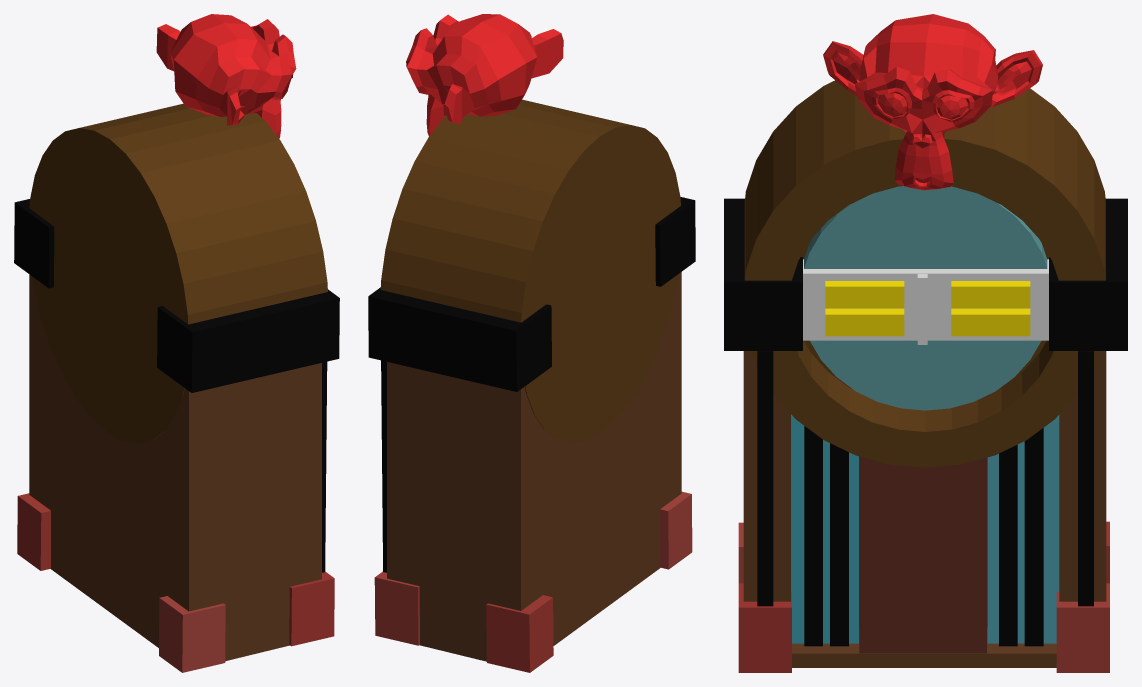
File: Monkey_JukeBox.fbx
3 views of the same model, side by side, from view 1: azimuth 30°, elevation 25°; view 2: azimuth 150°, elevation 25°; view 3: azimuth 270°, elevation 25° (orthographic). The views are drawn at different scales.
Parts seen in each view (by area): view 1: Cylinder.002, Cube.017, Cube, Suzanne, Cube.038, Cube.026, Cube.001, Cube.037, Cube.006; view 2: Cylinder.002, Cube.017, Cube.001, Suzanne, Cube.037, Cube.027, Cube, Cube.038, Cube.007; view 3: Cylinder.002, Cylinder, Cube.030, Cube.017, Suzanne, Cube.008, Cube.001, Cube.014, Cube, Cube.013, Cube.006, Cube.004 (+10 smaller).
Boxes of the visible parts, x1,y1,x2,y2 form: Cylinder.002: [29, 103, 327, 443]; Cube.017: [29, 274, 321, 661]; Cube: [157, 289, 339, 392]; Suzanne: [156, 14, 296, 138]; Cube.038: [159, 596, 225, 672]; Cube.026: [289, 571, 334, 646]; Cube.001: [14, 199, 54, 288]; Cube.037: [17, 493, 50, 570]; Cube.006: [322, 361, 327, 572]; Cylinder.002: [380, 99, 680, 442]; Cube.017: [387, 272, 681, 661]; Cube.001: [368, 287, 551, 391]; Suzanne: [406, 14, 563, 136]; Cube.037: [486, 595, 553, 672]; Cube.027: [374, 571, 419, 645]; Cube: [655, 197, 695, 286]; Cube.038: [660, 491, 692, 569]; Cube.007: [381, 360, 386, 572]; Cylinder.002: [744, 80, 1105, 467]; Cylinder: [804, 186, 1047, 410]; Cube.030: [859, 456, 986, 653]; Cube.017: [743, 351, 1106, 667]; Suzanne: [823, 14, 1042, 190]; Cube.008: [803, 259, 1048, 344]; Cube.001: [1049, 198, 1127, 350]; Cube.014: [987, 415, 1059, 643]; Cube: [724, 198, 802, 350]; Cube.013: [791, 414, 858, 643]; Cube.006: [757, 350, 773, 606]; Cube.004: [1024, 428, 1043, 646].
Size of the model in its own units: 301 by 866 by 499.
